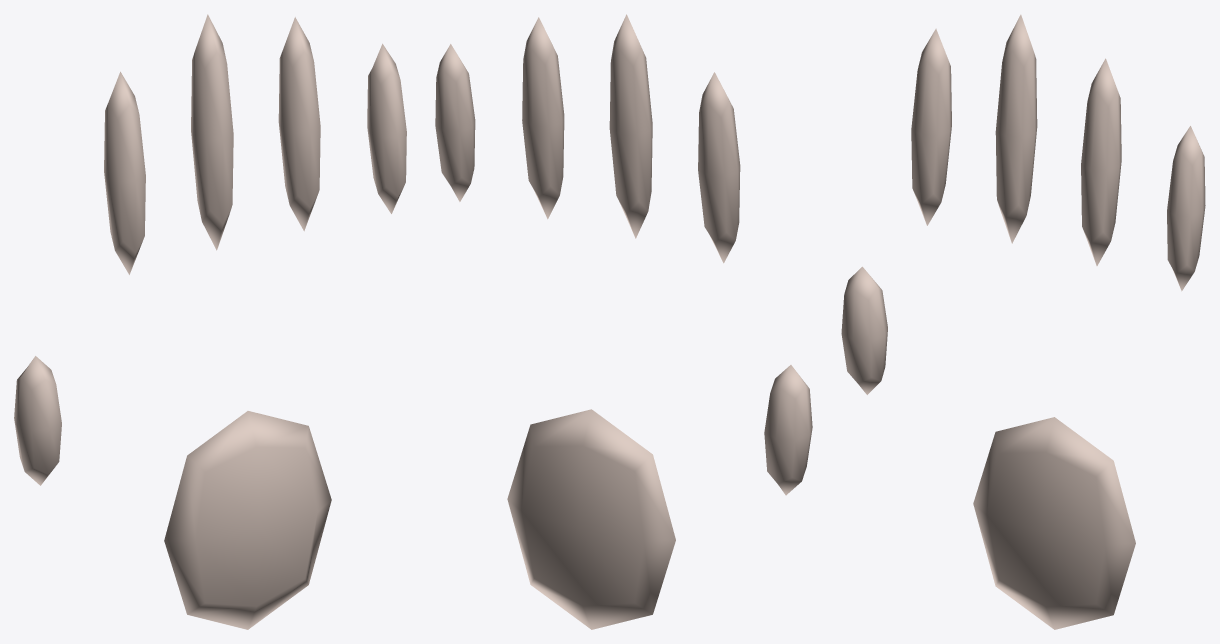
File: hand.glb
The picture shows the model from 3 angles, left to right: view 1: azimuth 30°, elevation 25°; view 2: azimuth 150°, elevation 25°; view 3: azimuth 330°, elevation 25°; orthographic projection. The views are drawn at different scales.
Visible parts, largest first — view 1: Hand; view 2: Hand; view 3: Hand.
Boxes of the visible parts, x1,y1,x2,y2 form: Hand: [14, 14, 406, 629]; Hand: [435, 14, 812, 629]; Hand: [841, 14, 1205, 629].
Bounding box in the file's own units: 0.3026 × 0.4771 × 0.0445.
